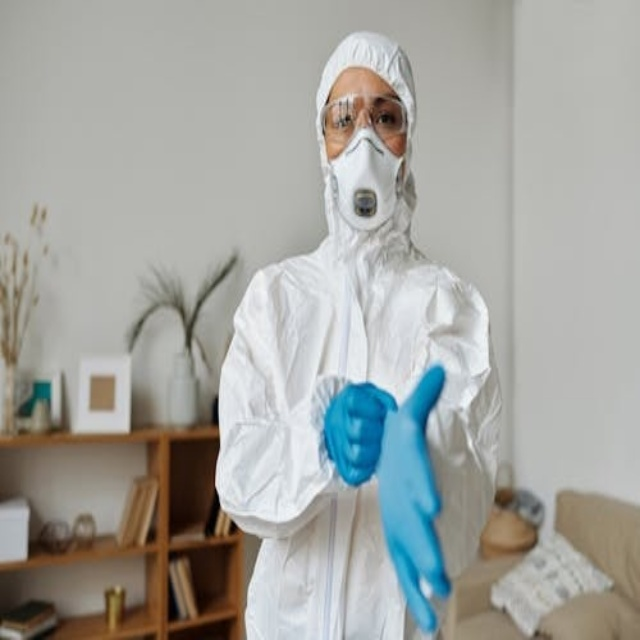Gafas: (321, 94, 410, 149)
Guantes: (373, 365, 453, 636), (323, 380, 393, 485)
Mascara: (330, 125, 405, 235)
